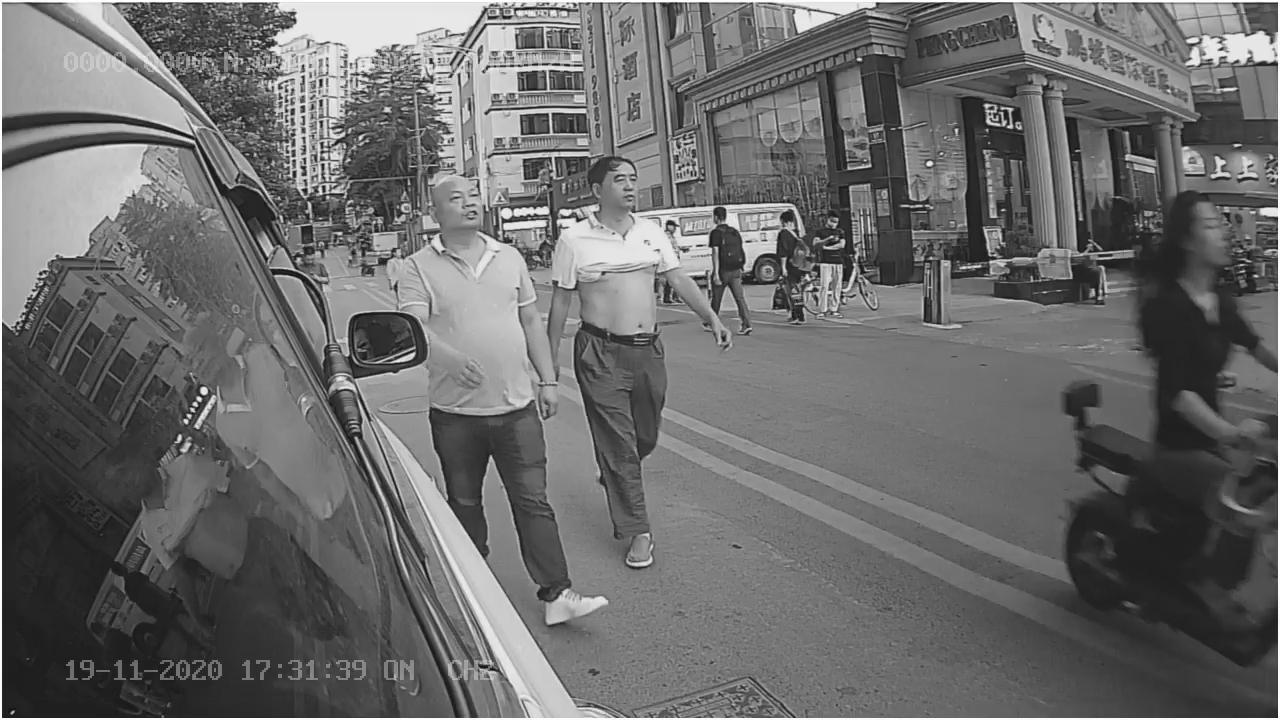person: (555, 149, 711, 544)
